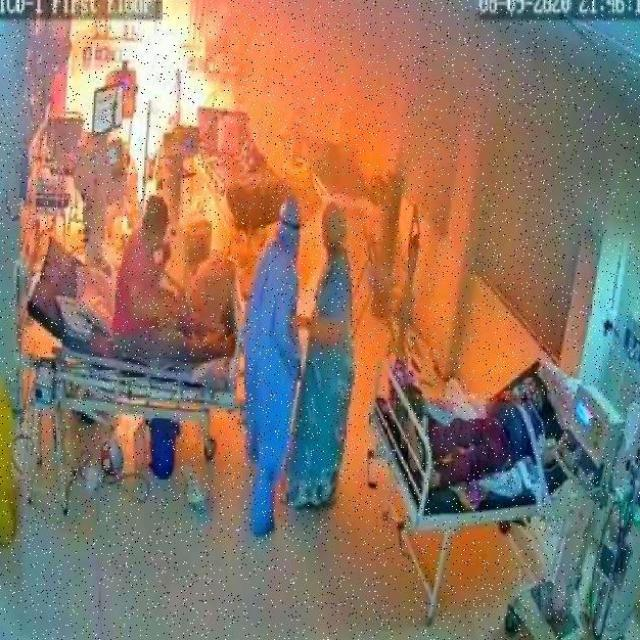smoke: (110, 0, 221, 149)
